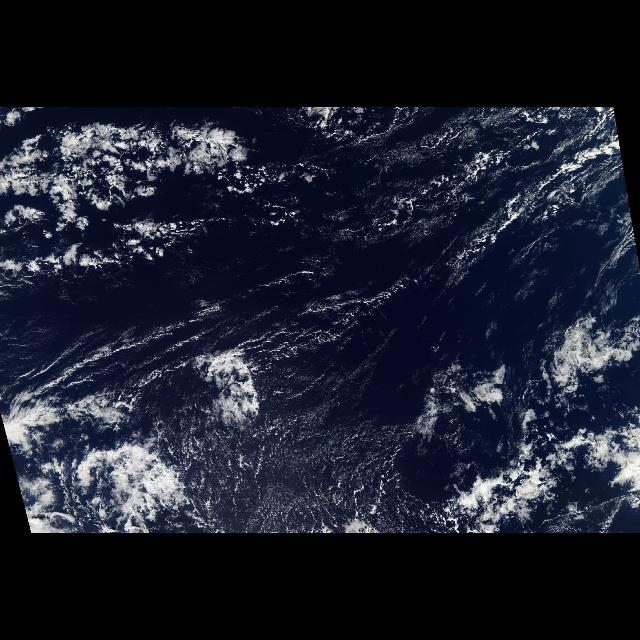Gravel: (352, 128, 554, 272)
Sugar: (167, 404, 451, 534)
